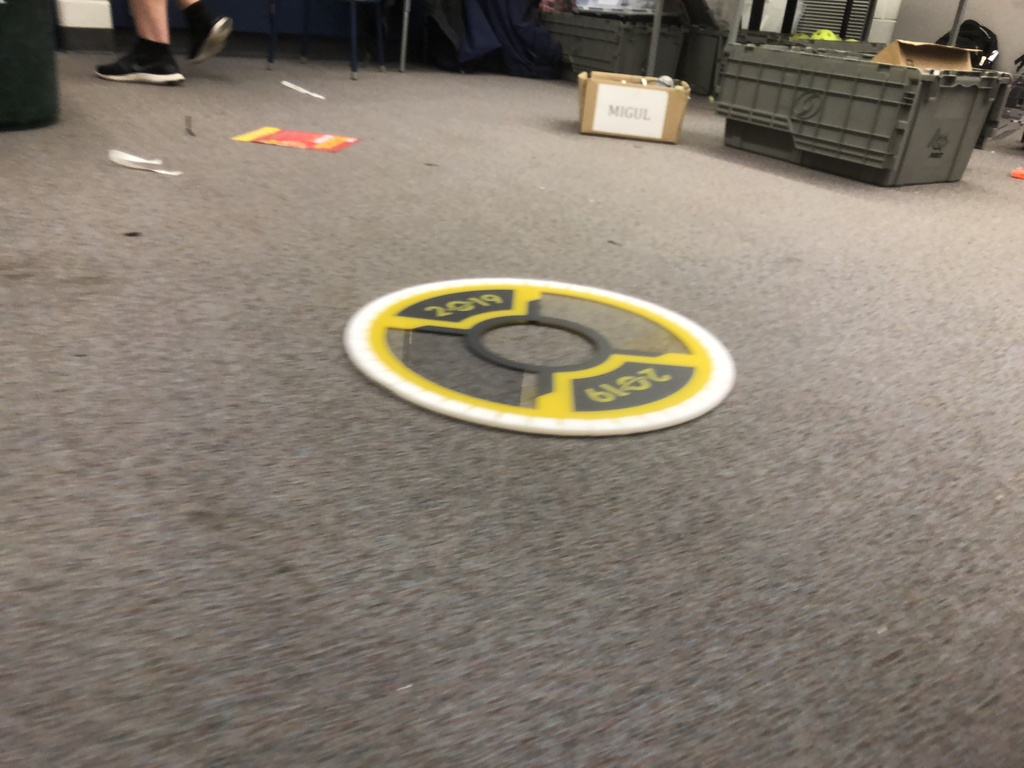hatch_panel: (326, 248, 758, 452)
